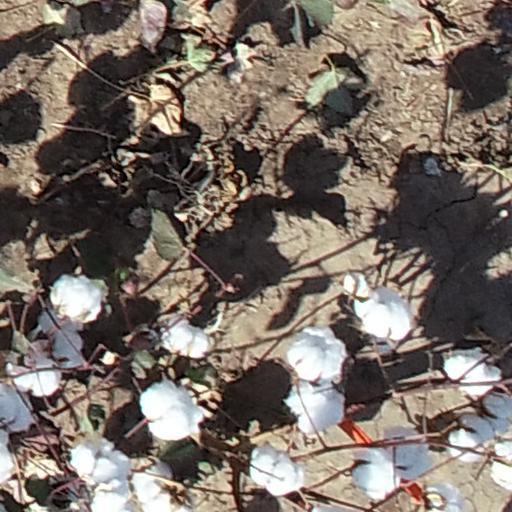Boll: (142, 383, 199, 440), (289, 321, 345, 379), (288, 379, 347, 428), (251, 443, 307, 492), (357, 289, 410, 337), (443, 347, 493, 393), (51, 276, 103, 320), (136, 462, 181, 512), (72, 437, 126, 478), (358, 452, 397, 496), (391, 429, 430, 473), (449, 419, 489, 458), (166, 321, 209, 355), (1, 388, 34, 432), (51, 323, 81, 369), (16, 359, 56, 393), (96, 483, 132, 512), (486, 395, 512, 433)
